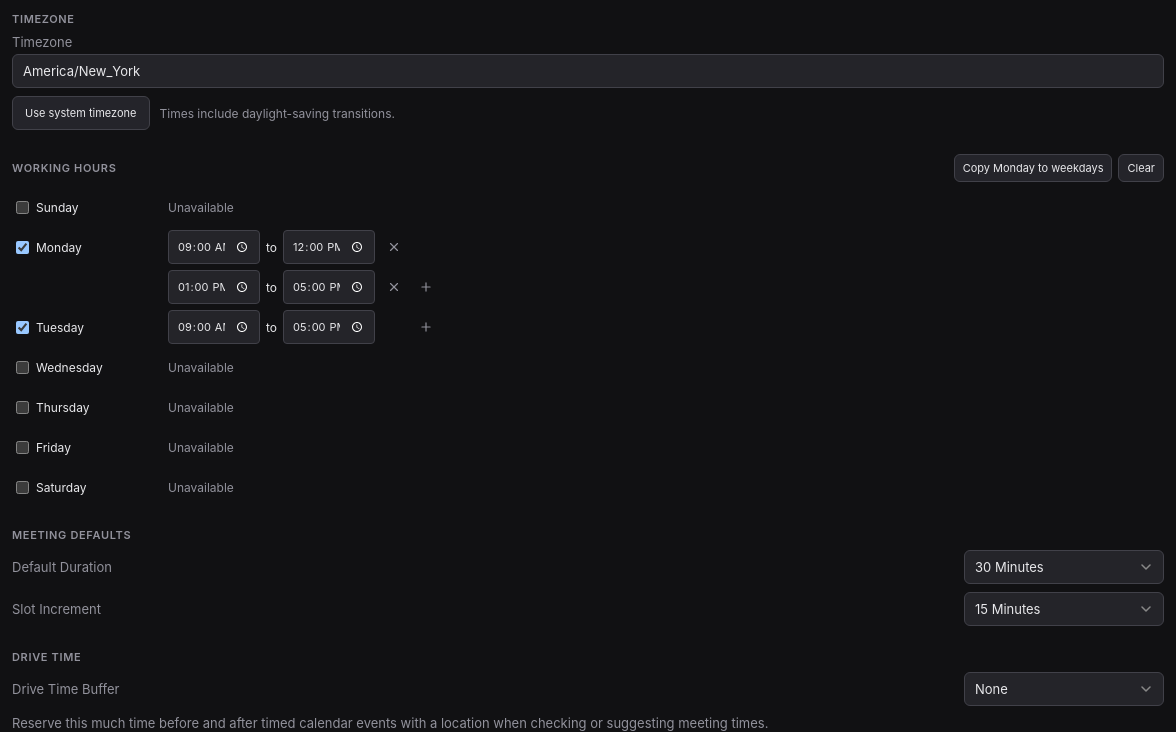
Test: AvailabilitySettings working hours › removes one slot and keeps the others
Click the button named "Remove Monday slot 1" at (394, 247), box [381,234,407,260]
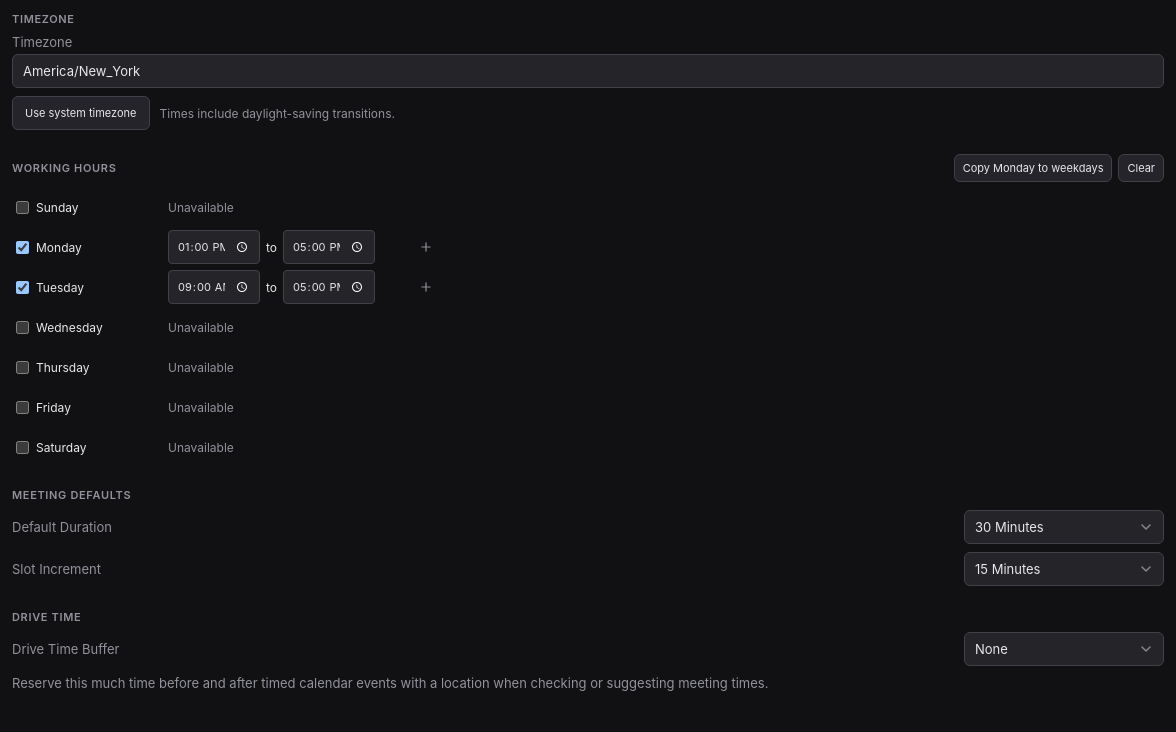
Result: the time field named "Monday Start" holds "13:00" at [168,230,260,264]
